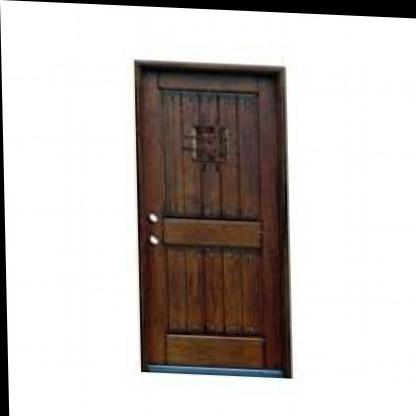door: (132, 60, 287, 368)
